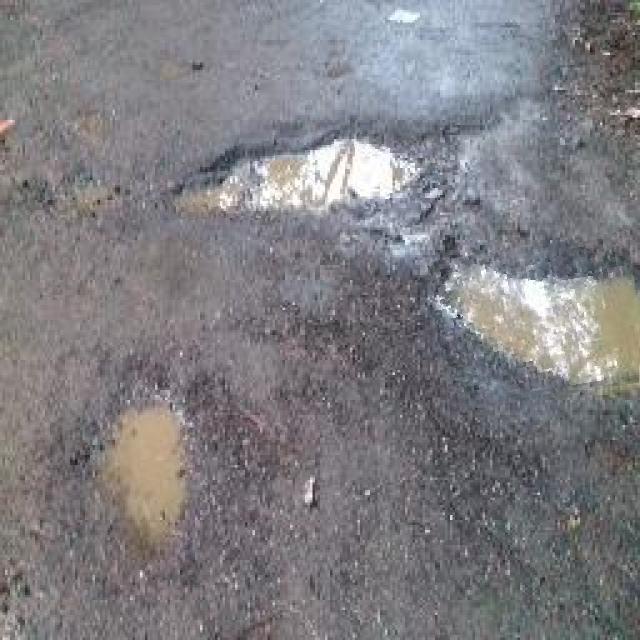puddle: (433, 239, 640, 406), (168, 135, 439, 219)
